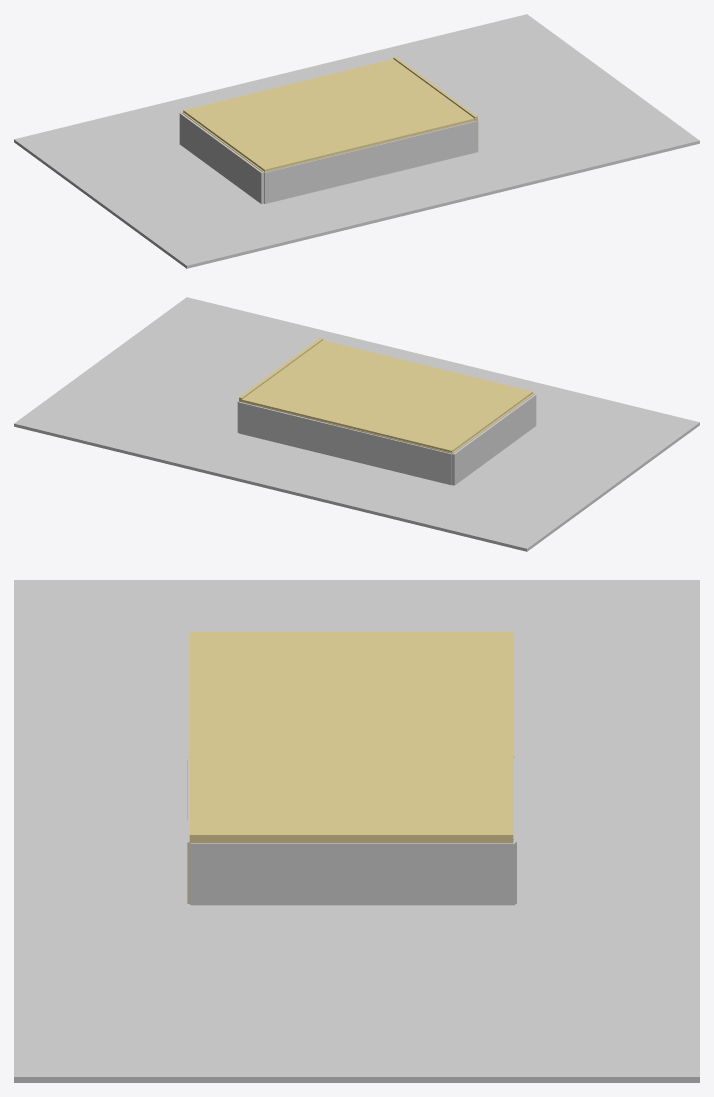
File: testbed_map_a.glb
3 renders of one model, top to bottom at view 1: azimuth 30°, elevation 25°; view 2: azimuth 150°, elevation 25°; view 3: azimuth 270°, elevation 25°, orthographic. The views are drawn at different scales.
Parts seen in each view (by area): view 1: COLL_BOX_floor, roof, COLL_BOX_wall.001, COLL_BOX_wall.004, map_static; view 2: COLL_BOX_floor, roof, COLL_BOX_wall.002, COLL_BOX_wall.004, map_static; view 3: COLL_BOX_floor, roof, COLL_BOX_wall.003, map_static, COLL_BOX_wall.002, COLL_BOX_wall.001.
Part boxes in pixels (bbox=[...]): COLL_BOX_floor: bbox=[14, 14, 699, 268]; roof: bbox=[183, 59, 474, 171]; COLL_BOX_wall.001: bbox=[264, 121, 477, 203]; COLL_BOX_wall.004: bbox=[179, 112, 263, 203]; map_static: bbox=[183, 57, 477, 172]; COLL_BOX_floor: bbox=[14, 297, 699, 551]; roof: bbox=[242, 340, 532, 452]; COLL_BOX_wall.002: bbox=[239, 402, 451, 485]; COLL_BOX_wall.004: bbox=[451, 394, 536, 485]; map_static: bbox=[239, 338, 533, 453]; COLL_BOX_floor: bbox=[14, 580, 699, 1082]; roof: bbox=[190, 631, 512, 831]; COLL_BOX_wall.003: bbox=[190, 841, 515, 905]; map_static: bbox=[189, 635, 514, 904]; COLL_BOX_wall.002: bbox=[513, 636, 516, 903]; COLL_BOX_wall.001: bbox=[187, 636, 189, 903].
Size of the model in its own units: 79.03 by 6.46 by 46.11.
7 materials, 4 textured.
